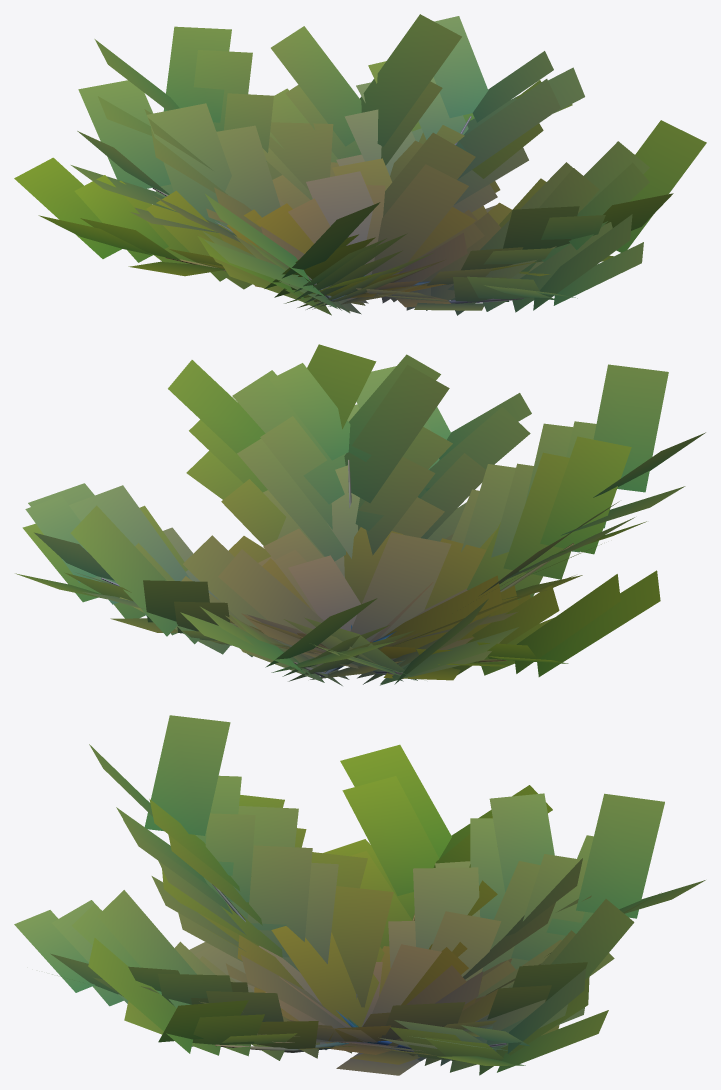
The model's file is juniper_mat.glb.
The picture shows the model from 3 angles, top to bottom: view 1: azimuth 30°, elevation 25°; view 2: azimuth 150°, elevation 25°; view 3: azimuth 270°, elevation 25°; orthographic projection. The views are drawn at different scales.
Parts seen in each view (by area): view 1: LOD0; view 2: LOD0; view 3: LOD0.
Part boxes in pixels (x1,y1,x2,y2): LOD0: (14,14,706,315); LOD0: (15,344,705,685); LOD0: (14,715,705,1075).
Size of what is drawn, in the model's own units: 2.84 by 1.02 by 2.93.
